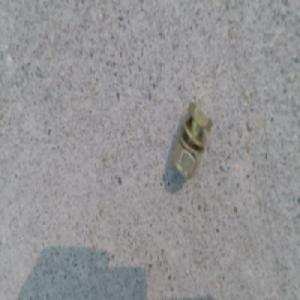BoltNutSet: (168, 106, 207, 181)
